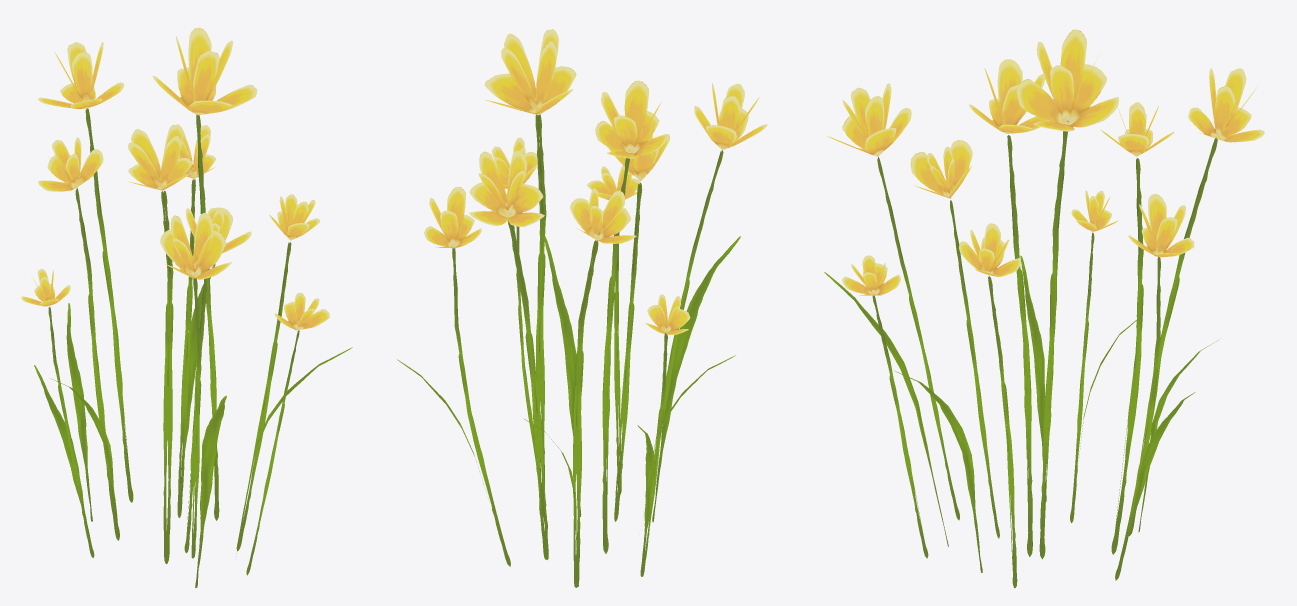
Rendered from SM_ENV_flower_town_03.fbx.
The picture shows the model from 3 angles, left to right: view 1: azimuth 30°, elevation 25°; view 2: azimuth 150°, elevation 25°; view 3: azimuth 270°, elevation 25°; orthographic projection. The views are drawn at different scales.
Parts seen in each view (by area): view 1: SM_ENV_flower_town_03_LOD0; view 2: SM_ENV_flower_town_03_LOD0; view 3: SM_ENV_flower_town_03_LOD0.
Boxes of the visible parts, <box> form: SM_ENV_flower_town_03_LOD0: <box>21,27,352,587</box>; SM_ENV_flower_town_03_LOD0: <box>397,29,767,587</box>; SM_ENV_flower_town_03_LOD0: <box>824,29,1264,588</box>.
Bounding box in the file's own units: 28.89 × 52.9 × 40.88.
